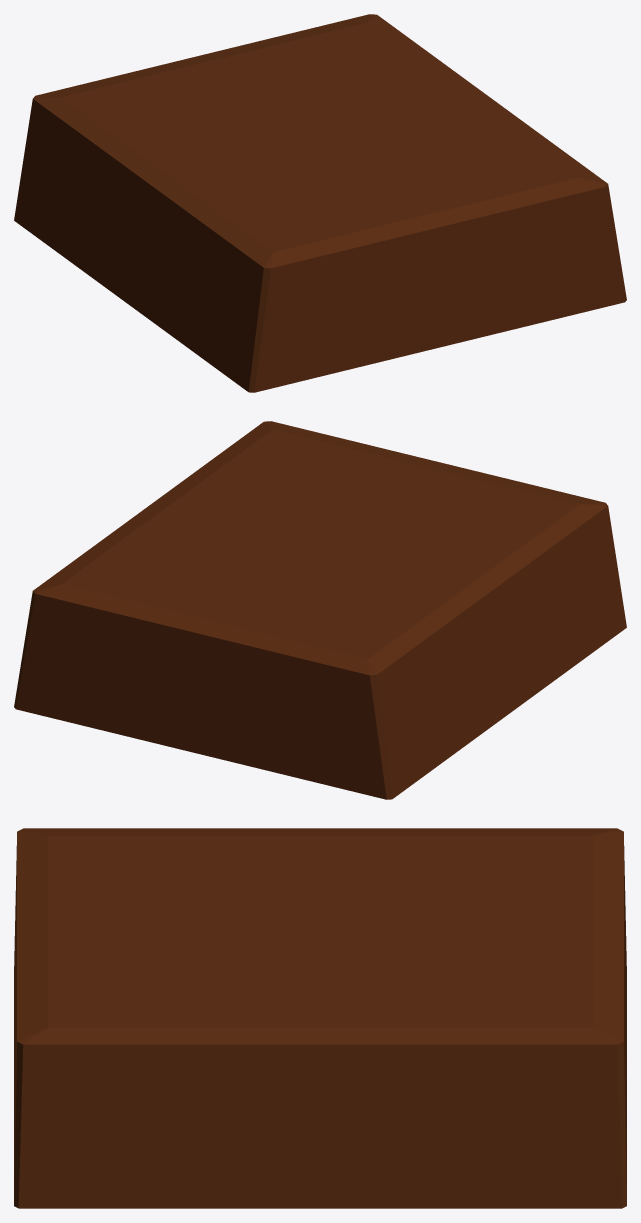
Rendered from stack-iron-plate.glb.
3 views of the same model, one above another, from view 1: azimuth 30°, elevation 25°; view 2: azimuth 150°, elevation 25°; view 3: azimuth 270°, elevation 25° (orthographic). The views are drawn at different scales.
Visible parts, largest first — view 1: Cube.014; view 2: Cube.014; view 3: Cube.014.
Part boxes in pixels (bbox=[...]): Cube.014: bbox=[14, 14, 626, 392]; Cube.014: bbox=[14, 421, 626, 799]; Cube.014: bbox=[14, 828, 626, 1208].
Size of the model in its own units: 2.2 by 0.6833 by 2.4.
